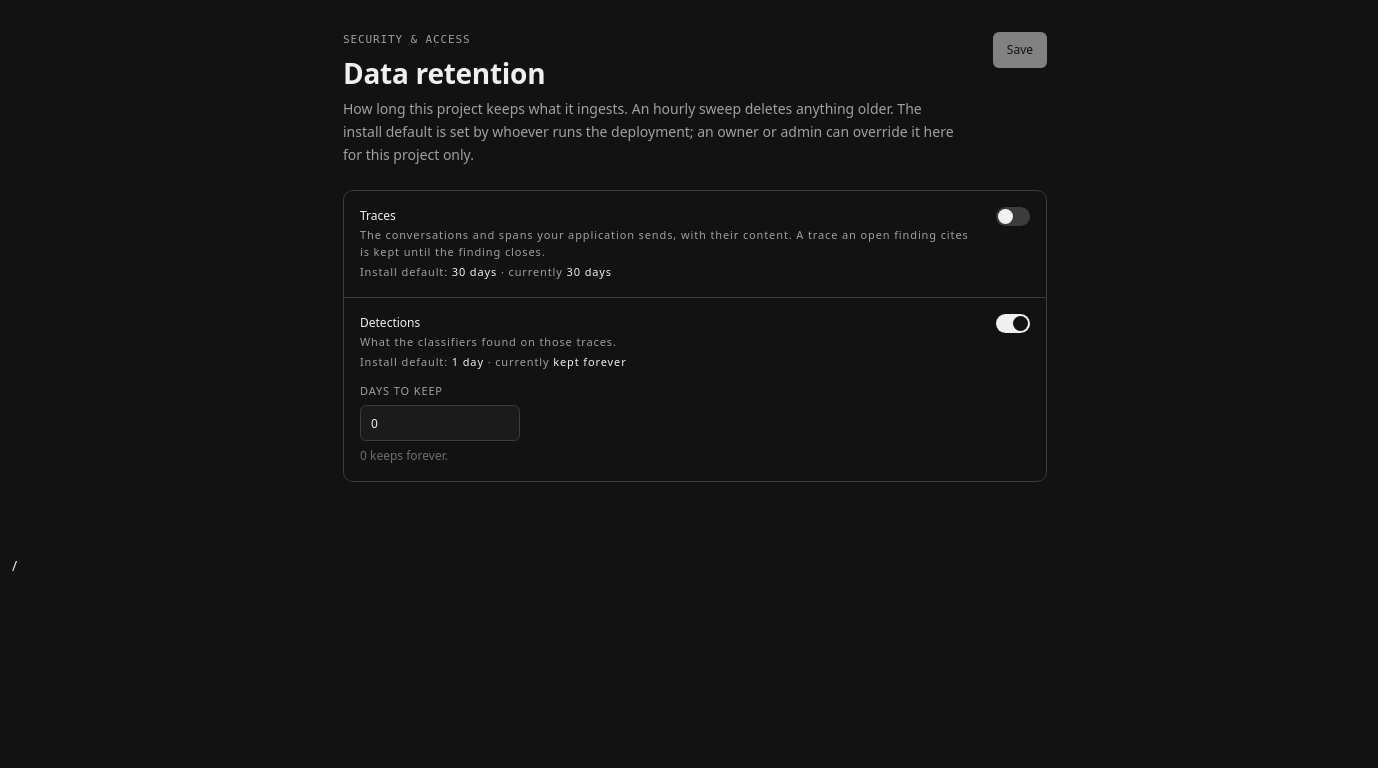
it: saving › says why a save was refused
Expected: the text "Traces" is shown, [360,207,396,224]
Replace the text in the field labelled "Days to keep" with "90" at (440, 423), box [360,405,520,441]
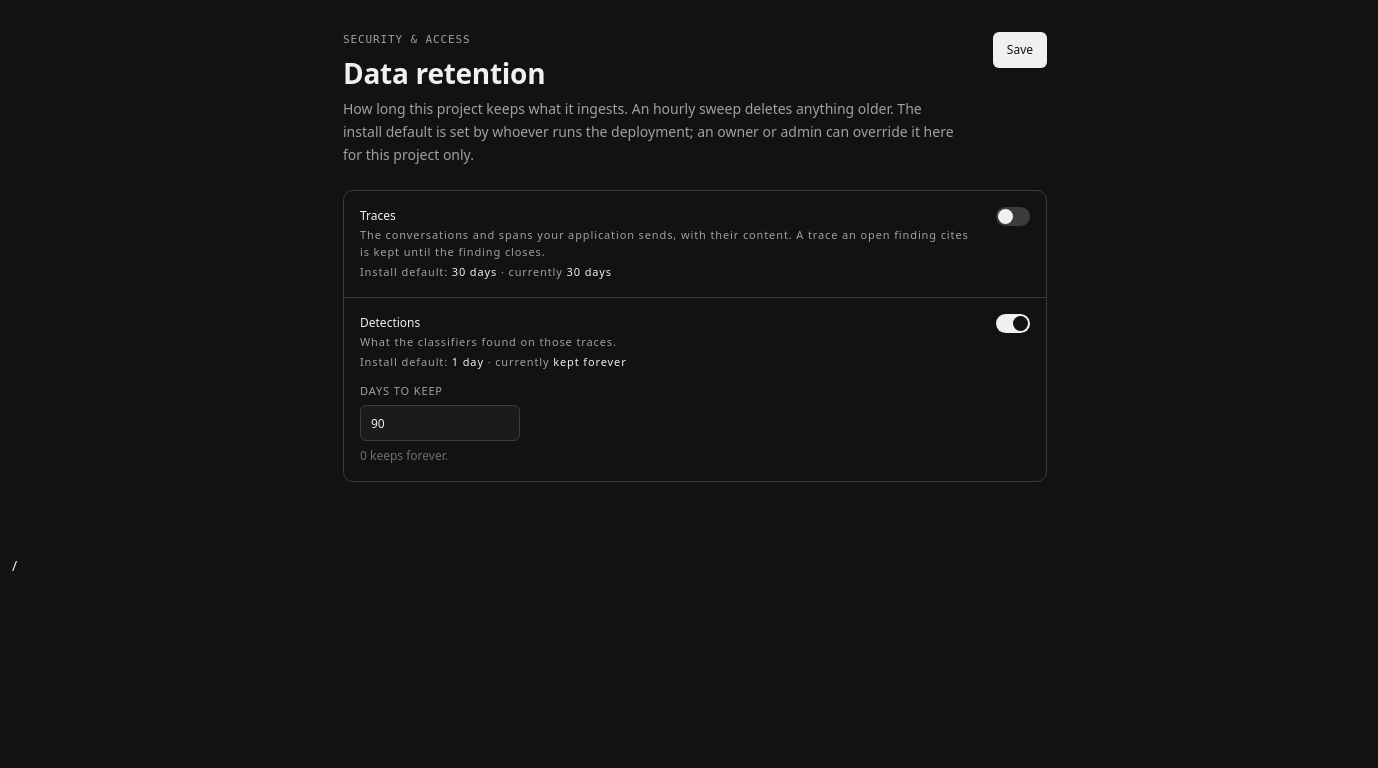
Click the button "Save".
click(1020, 50)  # box [993,32,1047,68]
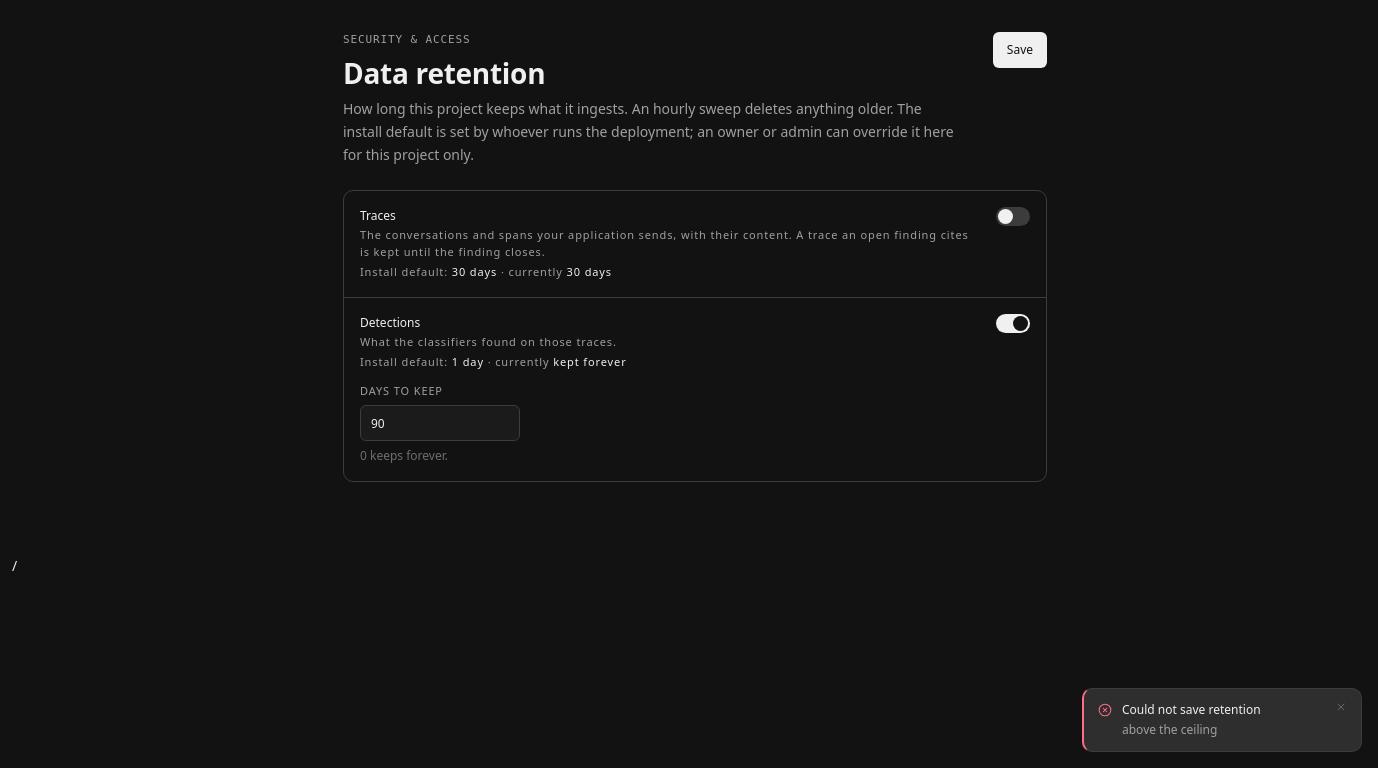
Now the text "Could not save retention" is shown, box [1122,701,1261,718]
Now the text "above the ceiling" is shown, box [1122,721,1217,738]
